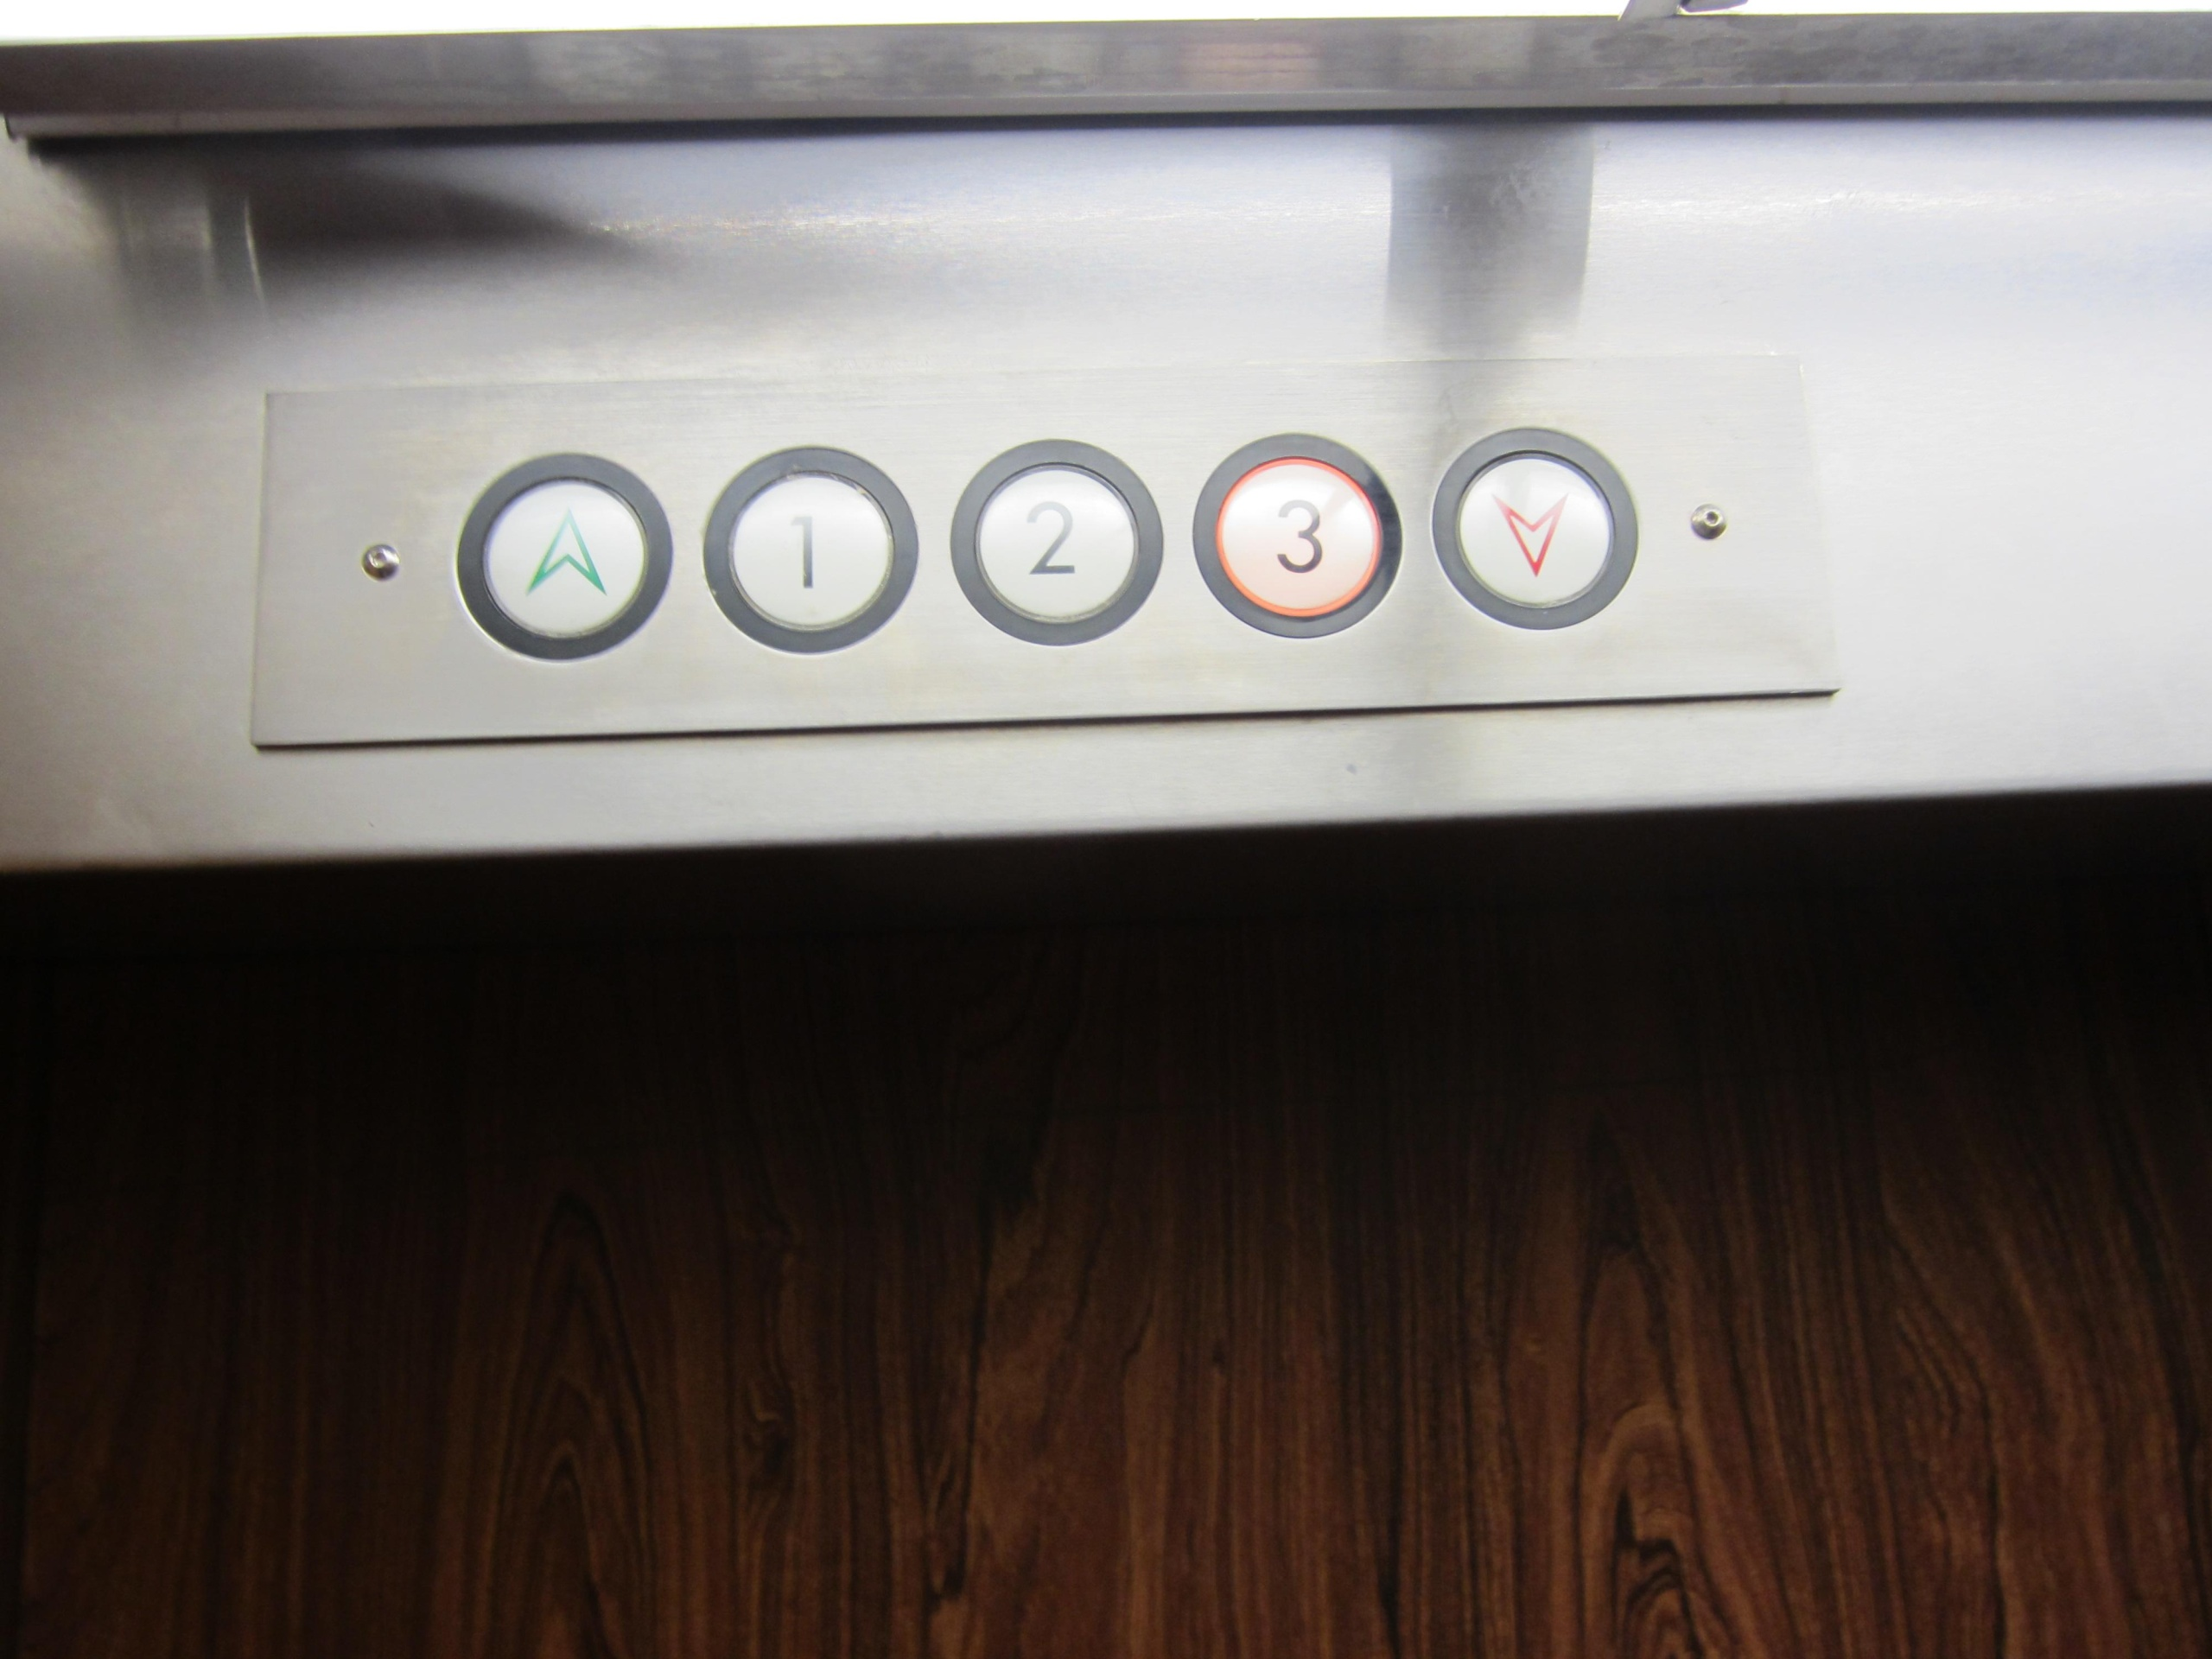1: (697, 450, 920, 660)
2: (949, 439, 1169, 648)
3: (1190, 434, 1402, 636)
down: (1435, 425, 1644, 629)
up: (458, 453, 674, 660)
